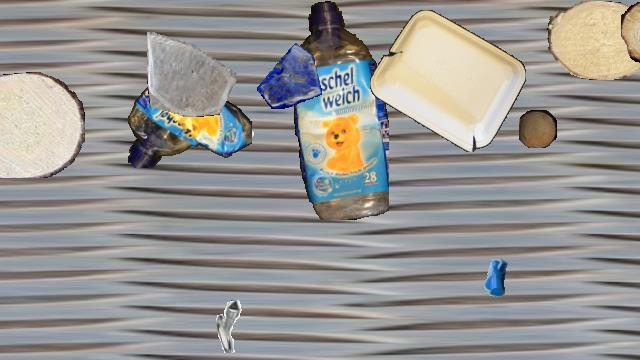glass: (147, 27, 237, 117), (256, 42, 322, 108)
metal: (317, 98, 377, 158), (466, 246, 524, 304), (216, 299, 270, 353), (218, 100, 258, 140), (0, 156, 14, 196)
plastic: (370, 10, 526, 152), (294, 1, 388, 219), (126, 77, 252, 167)
wood: (0, 72, 85, 178), (547, 1, 640, 79), (519, 110, 557, 148), (621, 1, 640, 67)
